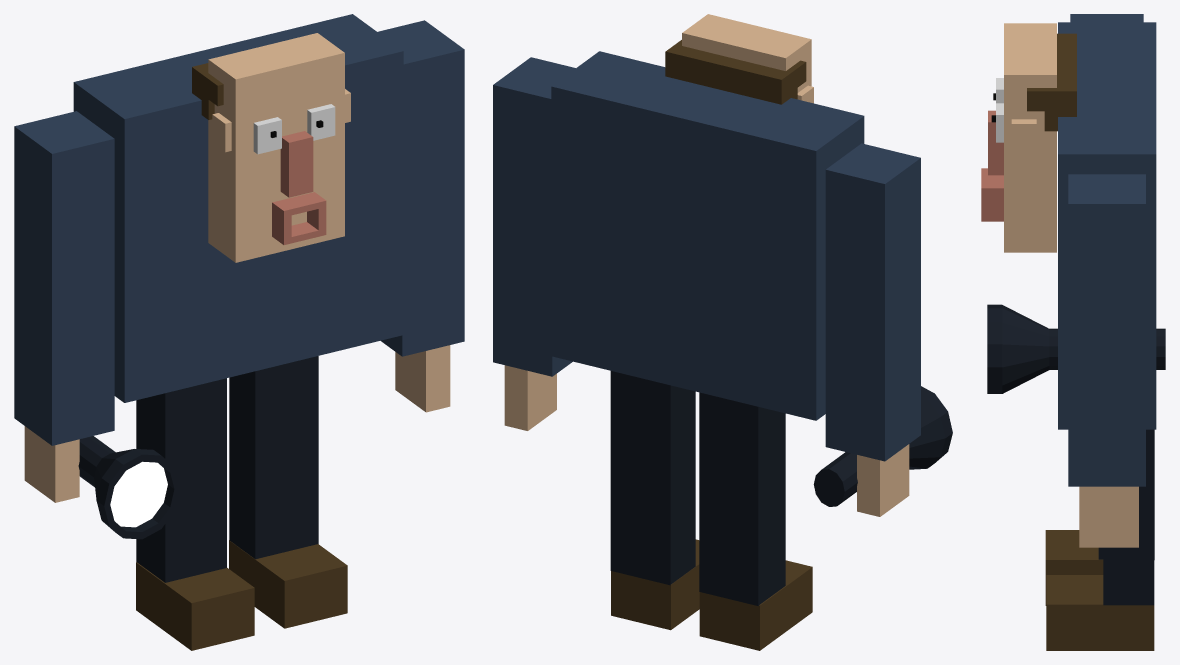
Rendered from Man.glb.
The picture shows the model from 3 angles, left to right: view 1: azimuth 30°, elevation 25°; view 2: azimuth 150°, elevation 25°; view 3: azimuth 270°, elevation 25°; orthographic projection. The views are drawn at different scales.
Visible parts, largest first — view 1: Cube.002, Cube, Cube.001, Cube.003, Cube.004, Cube.005, Cube.007, Cylinder, Cube.006, Cube.009, Cube.008, Cube.018 (+5 smaller); view 2: Cube.002, Cube, Cube.003, Cube.005, Cube.004, Cube.007, Cube.014, Cube.001, Cube.006, Cylinder, Cube.009, Cube.008; view 3: Cube.003, Cube.002, Cube.001, Cube.006, Cylinder, Cube.004, Cube.008, Cube.014, Cube.007, Cube.018, Cube.015, Cube.010 (+2 smaller).
Part boxes in pixels (x1,y1,x2,y2): Cube.002: (73, 14, 403, 402); Cube: (14, 111, 114, 445); Cube.001: (208, 33, 344, 262); Cube.003: (378, 20, 464, 356); Cube.004: (229, 356, 318, 559); Cube.005: (136, 378, 226, 582); Cube.007: (136, 562, 254, 650); Cylinder: (78, 436, 180, 539); Cube.006: (229, 540, 347, 628); Cube.009: (24, 426, 79, 502); Cube.008: (395, 345, 450, 412); Cube.018: (272, 192, 326, 244); Cube.002: (551, 51, 864, 420); Cube: (825, 143, 920, 461); Cube.003: (493, 57, 575, 376); Cube.005: (699, 392, 785, 605); Cube.004: (610, 371, 695, 585); Cube.007: (699, 560, 812, 650); Cube.014: (665, 40, 806, 104); Cube.001: (682, 14, 811, 92); Cube.006: (611, 539, 699, 630); Cylinder: (813, 386, 952, 506); Cube.009: (857, 444, 909, 516); Cube.008: (504, 365, 556, 430); Cube.003: (1068, 174, 1145, 486); Cube.002: (1058, 22, 1156, 429); Cube.001: (1004, 23, 1056, 252); Cube.006: (1046, 575, 1154, 650); Cylinder: (987, 304, 1165, 393); Cube.004: (1103, 429, 1154, 605); Cube.008: (1079, 486, 1138, 547); Cube.014: (1027, 33, 1076, 131); Cube.007: (1045, 530, 1103, 605); Cube.018: (981, 168, 1003, 221); Cube.015: (1011, 119, 1036, 151); Cube.010: (988, 110, 1003, 175).
Bounding box in the file's own units: 3.42 × 4.62 × 1.37.
